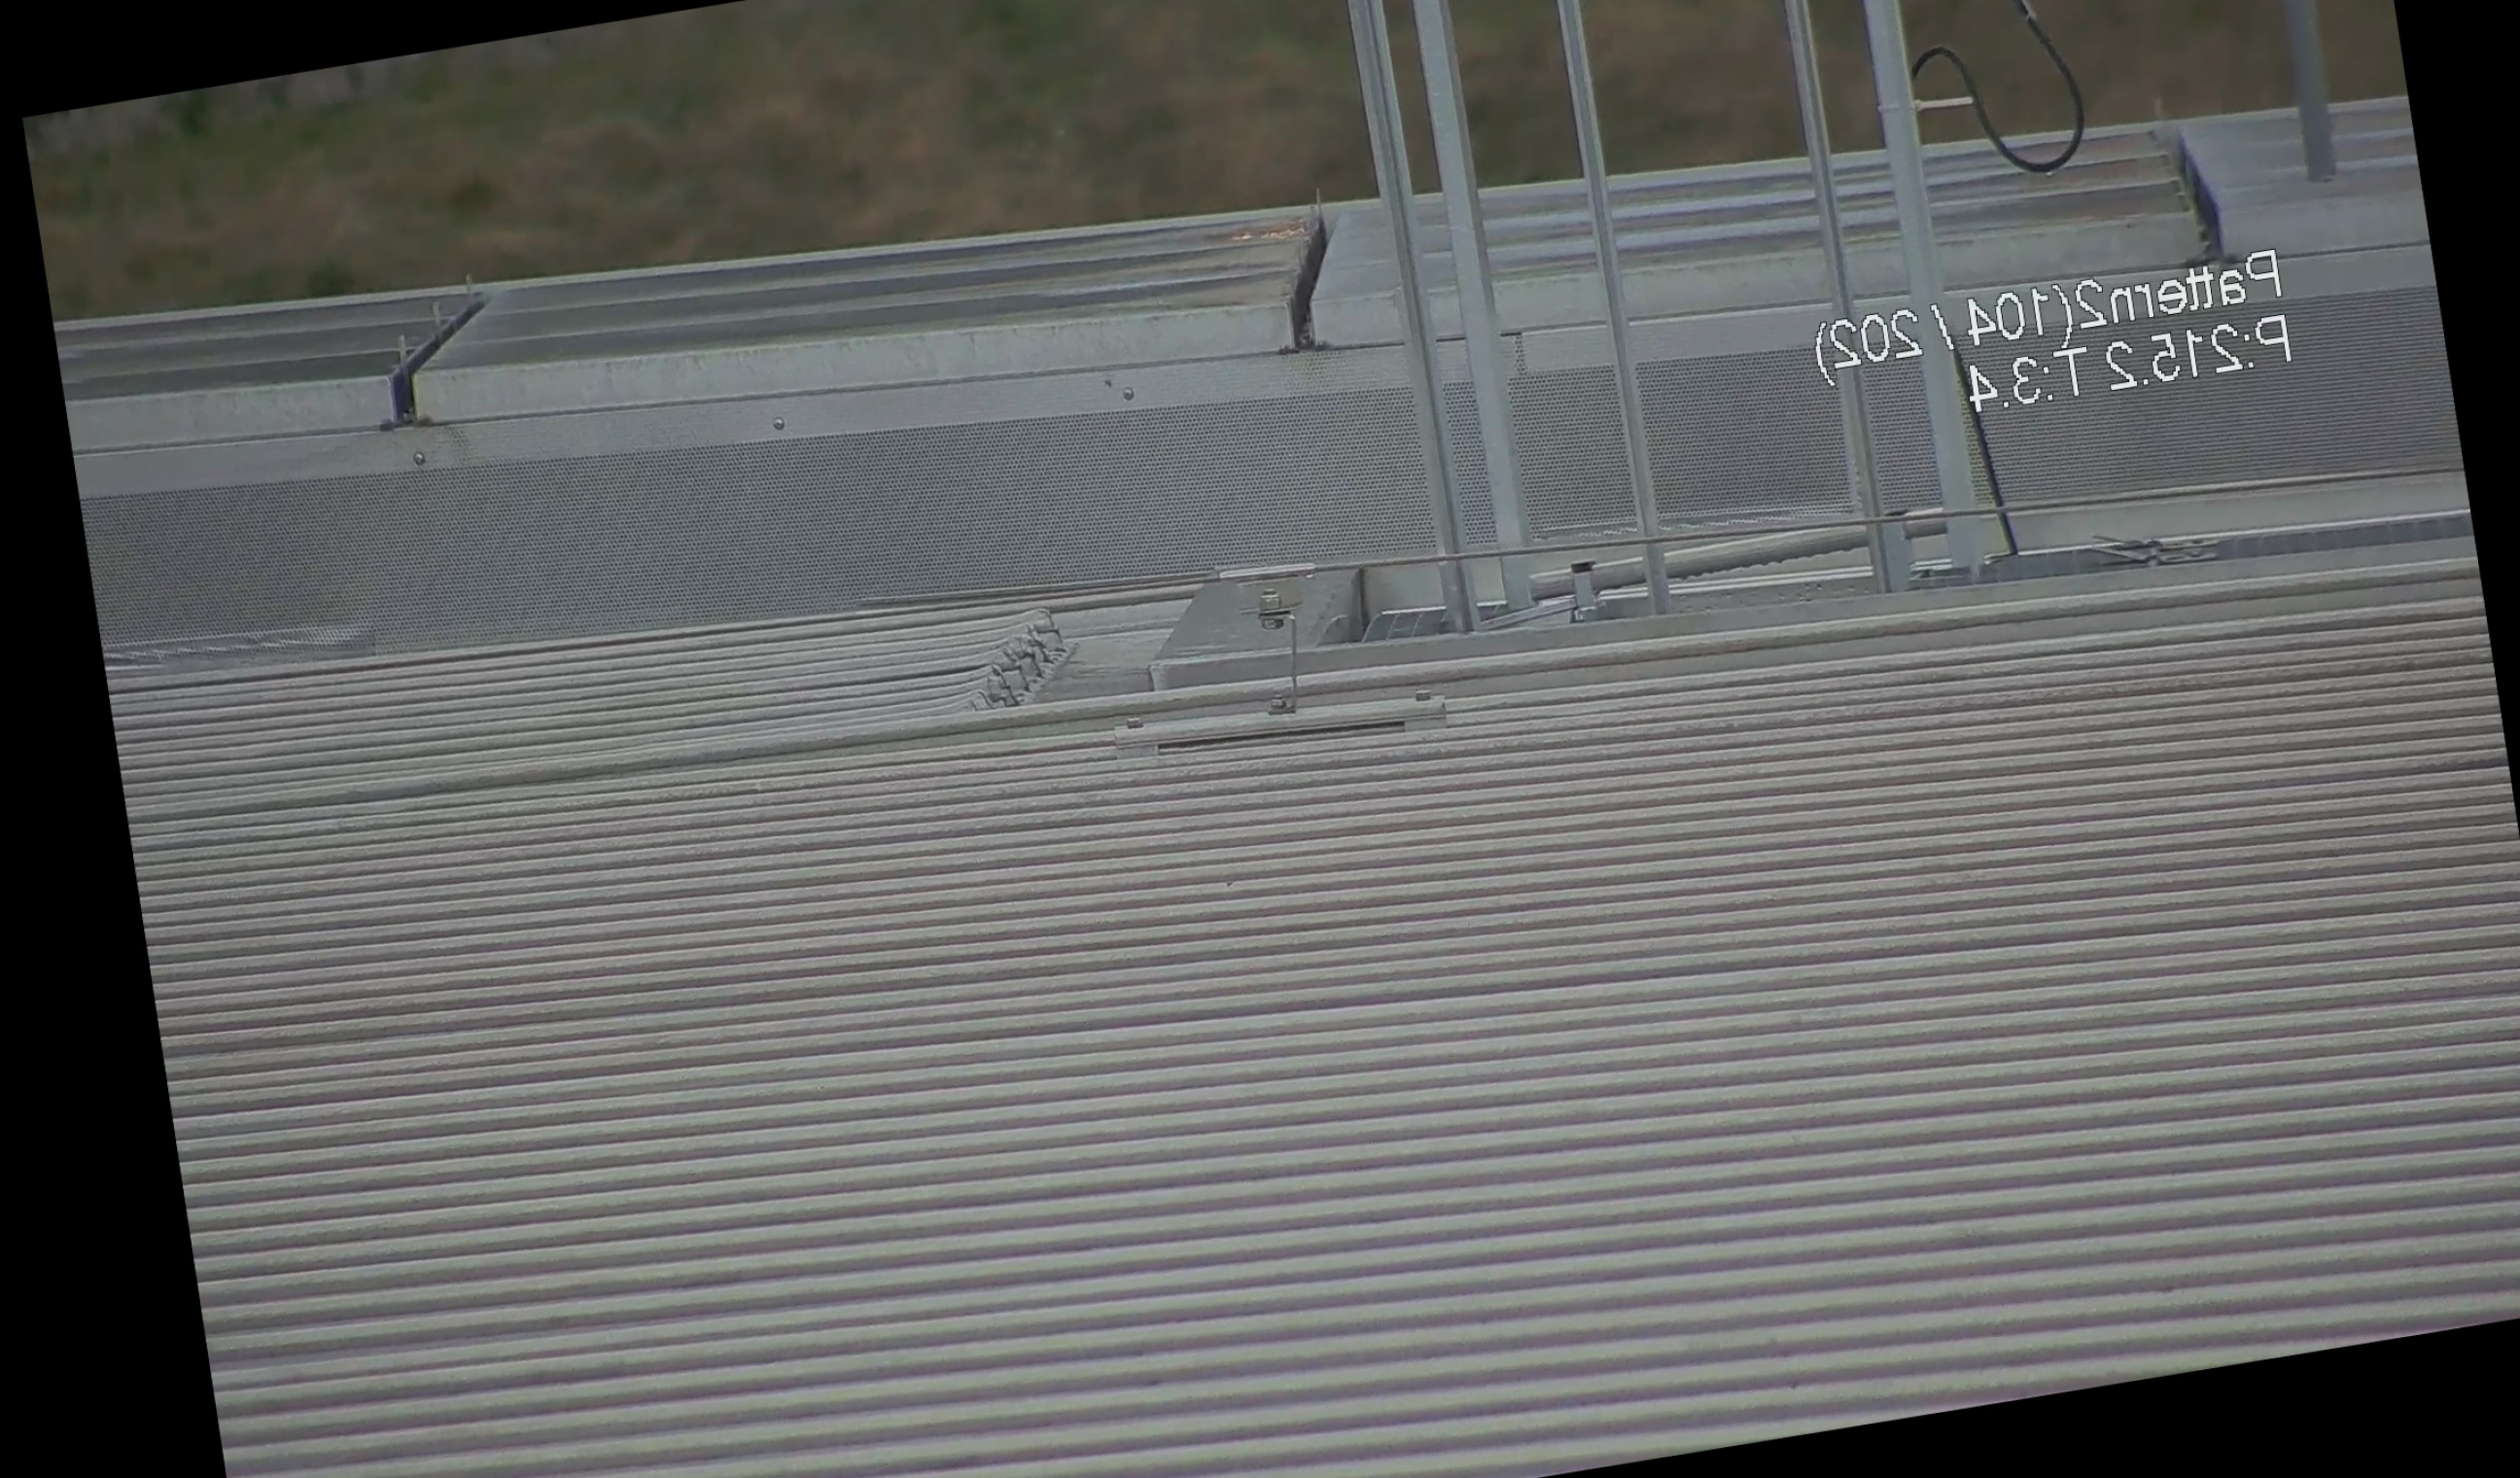Other: (1250, 195, 1363, 357)
